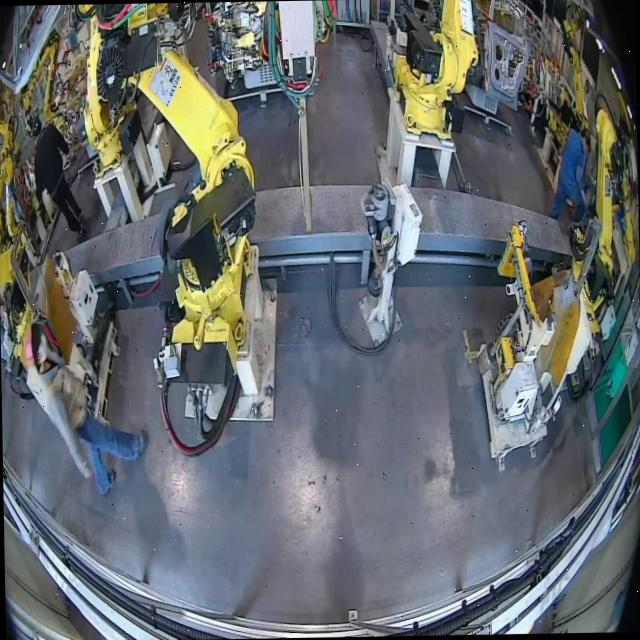Person: (0, 290, 149, 498), (30, 113, 87, 240), (547, 125, 593, 224)
